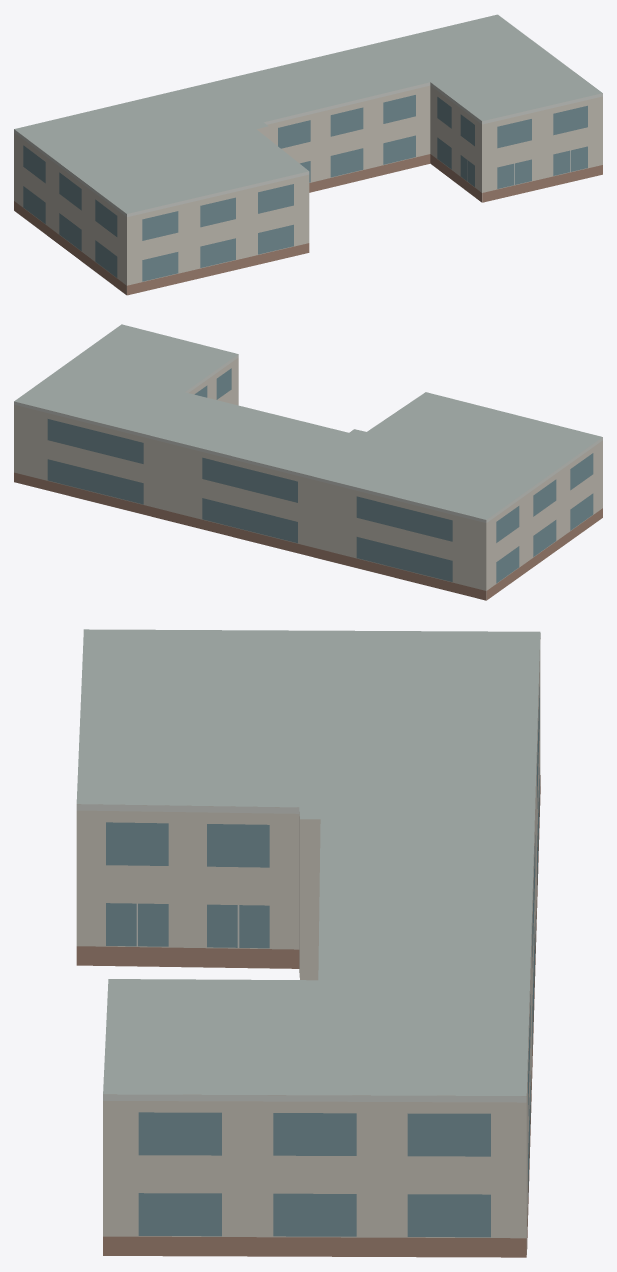
File: survey-upis-32996897.glb
3 renders of one model, top to bottom at view 1: azimuth 30°, elevation 25°; view 2: azimuth 150°, elevation 25°; view 3: azimuth 270°, elevation 25°, orthographic. The views are drawn at different scales.
Parts seen in each view (by area): view 1: survey-upis-32996897.tmp; view 2: survey-upis-32996897.tmp; view 3: survey-upis-32996897.tmp.
Boxes of the visible parts, x1=… form: survey-upis-32996897.tmp: x1=14, y1=14, x2=602, y2=295; survey-upis-32996897.tmp: x1=14, y1=324, x2=602, y2=600; survey-upis-32996897.tmp: x1=76, y1=629, x2=540, y2=1257.
Size of the model in its own units: 37.83 by 6.1 by 15.89.
